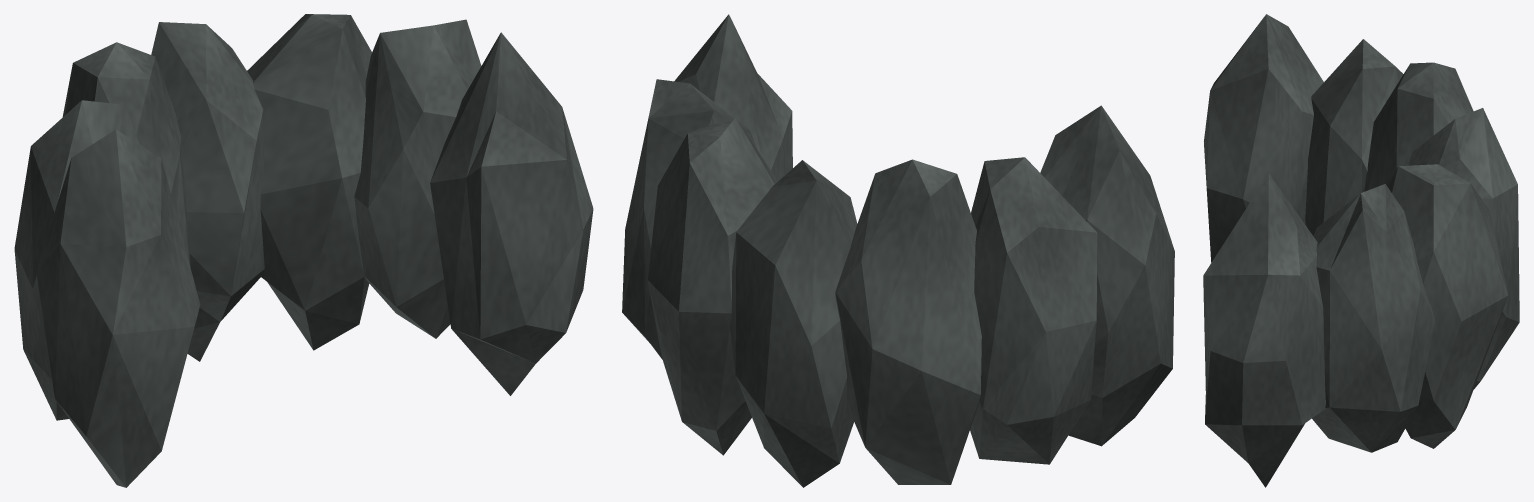
Rendered from rocks.cliff_inlet.lod1.glb.
3 renders of one model, left to right at view 1: azimuth 30°, elevation 25°; view 2: azimuth 150°, elevation 25°; view 3: azimuth 270°, elevation 25°, orthographic. The views are drawn at different scales.
Parts seen in each view (by area): view 1: Inlet.006, Inlet, Inlet.002, Inlet.001, Inlet.003, Inlet.005, Inlet.004; view 2: Inlet.004, Inlet.005, Inlet.003, Inlet.002, Inlet.006, Inlet.001, Inlet; view 3: Inlet, Inlet.001, Inlet.002, Inlet.006, Inlet.005, Inlet.003, Inlet.004.
Part boxes in pixels (x1,y1,x2,y2): Inlet.006: [36, 129, 200, 487]; Inlet: [430, 32, 593, 395]; Inlet.002: [247, 14, 371, 350]; Inlet.001: [354, 19, 481, 338]; Inlet.003: [151, 22, 264, 361]; Inlet.005: [14, 100, 139, 420]; Inlet.004: [62, 42, 190, 267]; Inlet.004: [835, 159, 981, 484]; Inlet.005: [970, 157, 1097, 464]; Inlet.003: [730, 160, 857, 487]; Inlet.002: [647, 117, 776, 455]; Inlet.006: [1040, 105, 1174, 446]; Inlet.001: [622, 79, 757, 359]; Inlet: [674, 14, 792, 181]; Inlet: [1203, 174, 1325, 487]; Inlet.001: [1312, 184, 1435, 452]; Inlet.002: [1387, 164, 1508, 448]; Inlet.006: [1204, 14, 1323, 262]; Inlet.005: [1305, 39, 1403, 235]; Inlet.003: [1408, 108, 1519, 389]; Inlet.004: [1364, 62, 1473, 191].
Size of the model in its own units: 13.37 by 8.91 by 8.15.
1 material, 1 textured.
